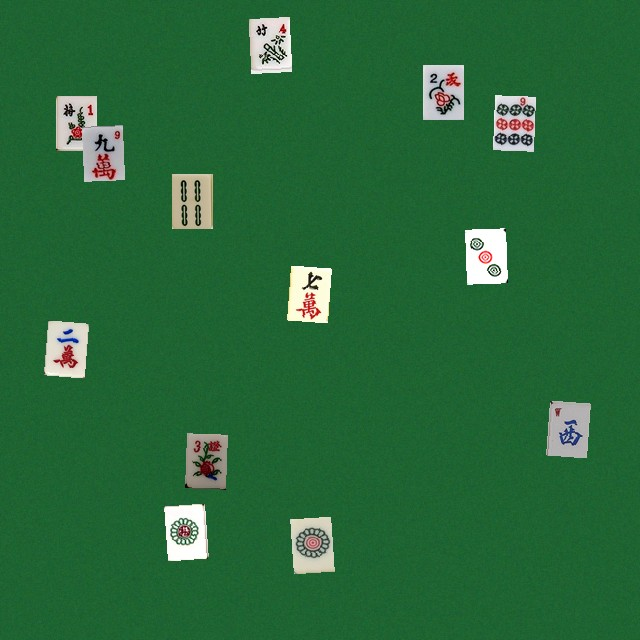tile: (248, 16, 289, 71), (465, 228, 506, 283), (55, 95, 96, 150), (185, 433, 226, 488), (171, 173, 212, 228), (546, 400, 587, 455), (422, 64, 463, 119), (287, 265, 328, 320), (492, 95, 533, 150), (43, 320, 84, 375), (81, 125, 122, 180), (164, 503, 205, 558), (290, 516, 331, 571)
